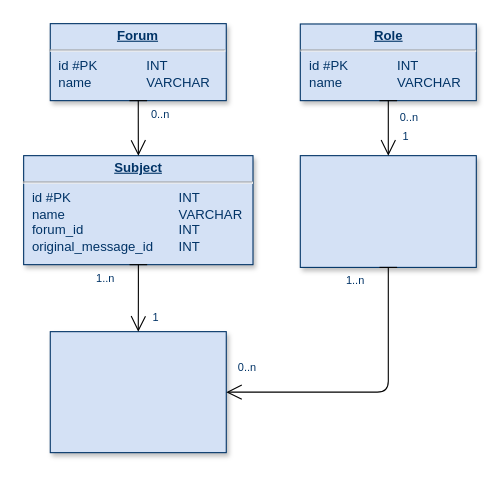
Some shapes in this 503 by 480 pixel diagram are drawn without their labels. The shapes that lost their labels are listed below. From the top down, each one's centre as x and y in pixels, then its label:
At point (389, 212): "User id #PK INT pseudo VARCHAR password VARCHAR role_id INT".
At point (139, 393): "Message id #PK INT text VARCHAR user_id INT subject_id INT last_updated DATE".
